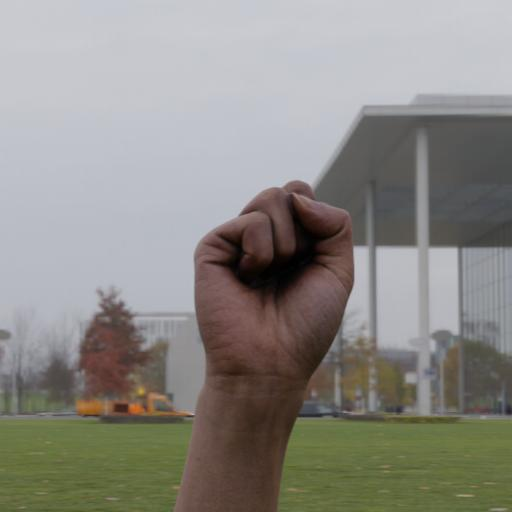S: (174, 159, 369, 390)
